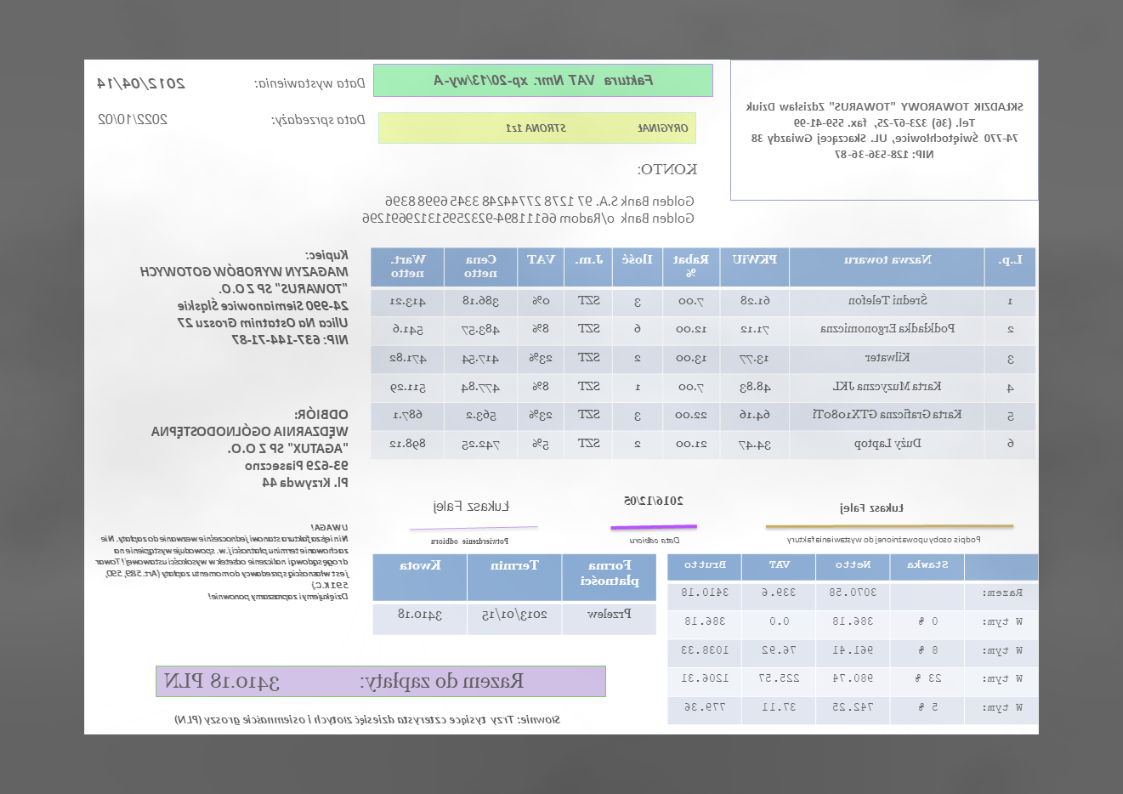Table: (370, 247, 1037, 461), (667, 554, 1038, 724), (371, 552, 658, 636)
TextBox: (138, 247, 350, 346), (94, 522, 350, 602), (743, 99, 1025, 162), (151, 405, 349, 490), (359, 193, 696, 225), (162, 671, 525, 692), (171, 712, 562, 726), (432, 71, 657, 90), (785, 533, 984, 547), (504, 121, 691, 134), (253, 74, 366, 91), (269, 111, 366, 128), (95, 74, 188, 90), (433, 498, 512, 516), (95, 111, 169, 127), (623, 492, 686, 509), (838, 501, 906, 516), (637, 161, 698, 176), (430, 536, 510, 546), (628, 534, 682, 547)
